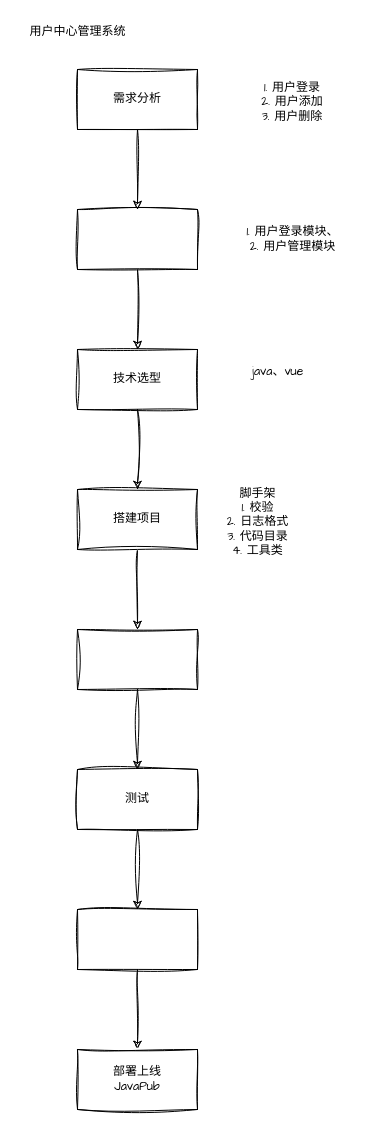
The diagram is 369 pixels wide and 1127 high, and some of its shapes have lost their labels. The shapes that lost their labels are listed below. From the top down, each one's box as (x1, y1, x2, y2) in pixels, then its label:
(76, 208, 198, 270): 设计
(76, 628, 198, 690): 写代码
(76, 908, 198, 970): 代码评审
